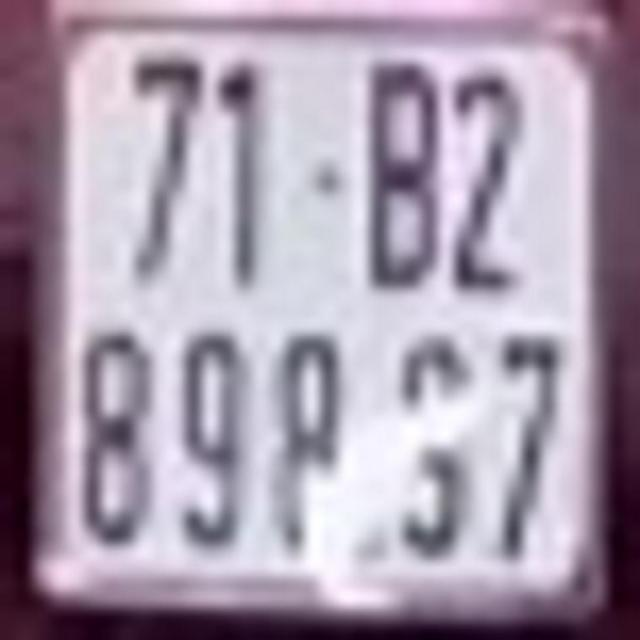1: (216, 58, 256, 281)
2: (454, 62, 519, 294)
7: (128, 53, 200, 284), (496, 331, 560, 551)
8: (278, 331, 340, 559), (84, 336, 148, 540)
9: (397, 331, 480, 552), (186, 331, 242, 543)
B: (369, 63, 442, 284)
